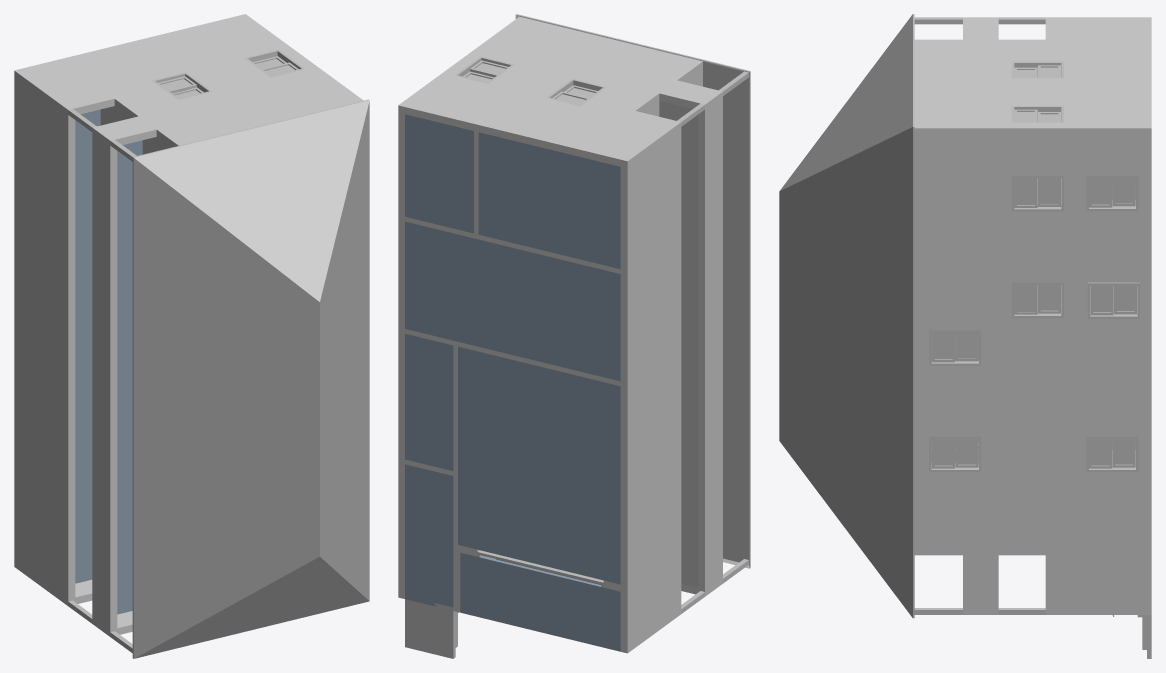
File: House_Model_Quads.obj
The picture shows the model from 3 angles, left to right: view 1: azimuth 30°, elevation 25°; view 2: azimuth 150°, elevation 25°; view 3: azimuth 270°, elevation 25°; orthographic projection.
Parts seen in each view (by area): view 1: Roof, Wall002, Wall009, Wall016, Wall017, Structure030, Structure015, Wall008, Structure014, Window008, Window009; view 2: Wall002, Structure003, Structure, Structure006, Wall016, Extrude006, Wall009, Structure001, Extrude013, Wall017, Structure005, Structure002 (+12 smaller); view 3: Roof, Wall002, Wall017, Wall008, Wall016, Wall009, Window002, Window005, Window004, Window010, Window007, Window011 (+3 smaller).
Boxes of the visible parts, x1,y1,x2,y2 form: Roof: (132, 99, 369, 658); Wall002: (14, 14, 283, 592); Wall009: (50, 85, 114, 605); Wall016: (92, 116, 156, 636); Wall017: (141, 72, 363, 154); Structure030: (117, 140, 142, 614); Structure015: (75, 109, 100, 530); Wall008: (99, 42, 325, 125); Structure014: (75, 526, 92, 583); Window008: (244, 49, 304, 77); Window009: (152, 72, 212, 99); Wall002: (398, 78, 663, 653); Structure003: (458, 346, 620, 584); Structure: (405, 221, 620, 381); Structure006: (478, 132, 620, 269); Wall016: (659, 80, 722, 596); Extrude006: (703, 61, 748, 562); Wall009: (618, 111, 681, 626); Structure001: (460, 552, 620, 651); Extrude013: (659, 100, 698, 587); Wall017: (478, 16, 702, 91); Structure005: (405, 114, 473, 233); Structure002: (405, 464, 453, 607); Roof: (779, 14, 914, 618); Wall002: (1077, 17, 1151, 614); Wall017: (914, 39, 994, 555); Wall008: (994, 39, 1076, 555); Wall016: (963, 17, 998, 614); Wall009: (1045, 17, 1080, 614); Window002: (1086, 436, 1138, 472); Window005: (1086, 175, 1138, 211); Window004: (1087, 282, 1139, 318); Window010: (929, 436, 981, 472); Window007: (1011, 176, 1063, 211); Window011: (929, 330, 981, 365).
Size of the model in its own units: 10200 by 22600 by 14221.
